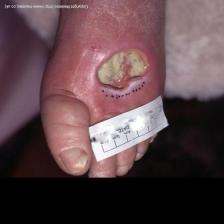Wound: (91, 44, 152, 90)
